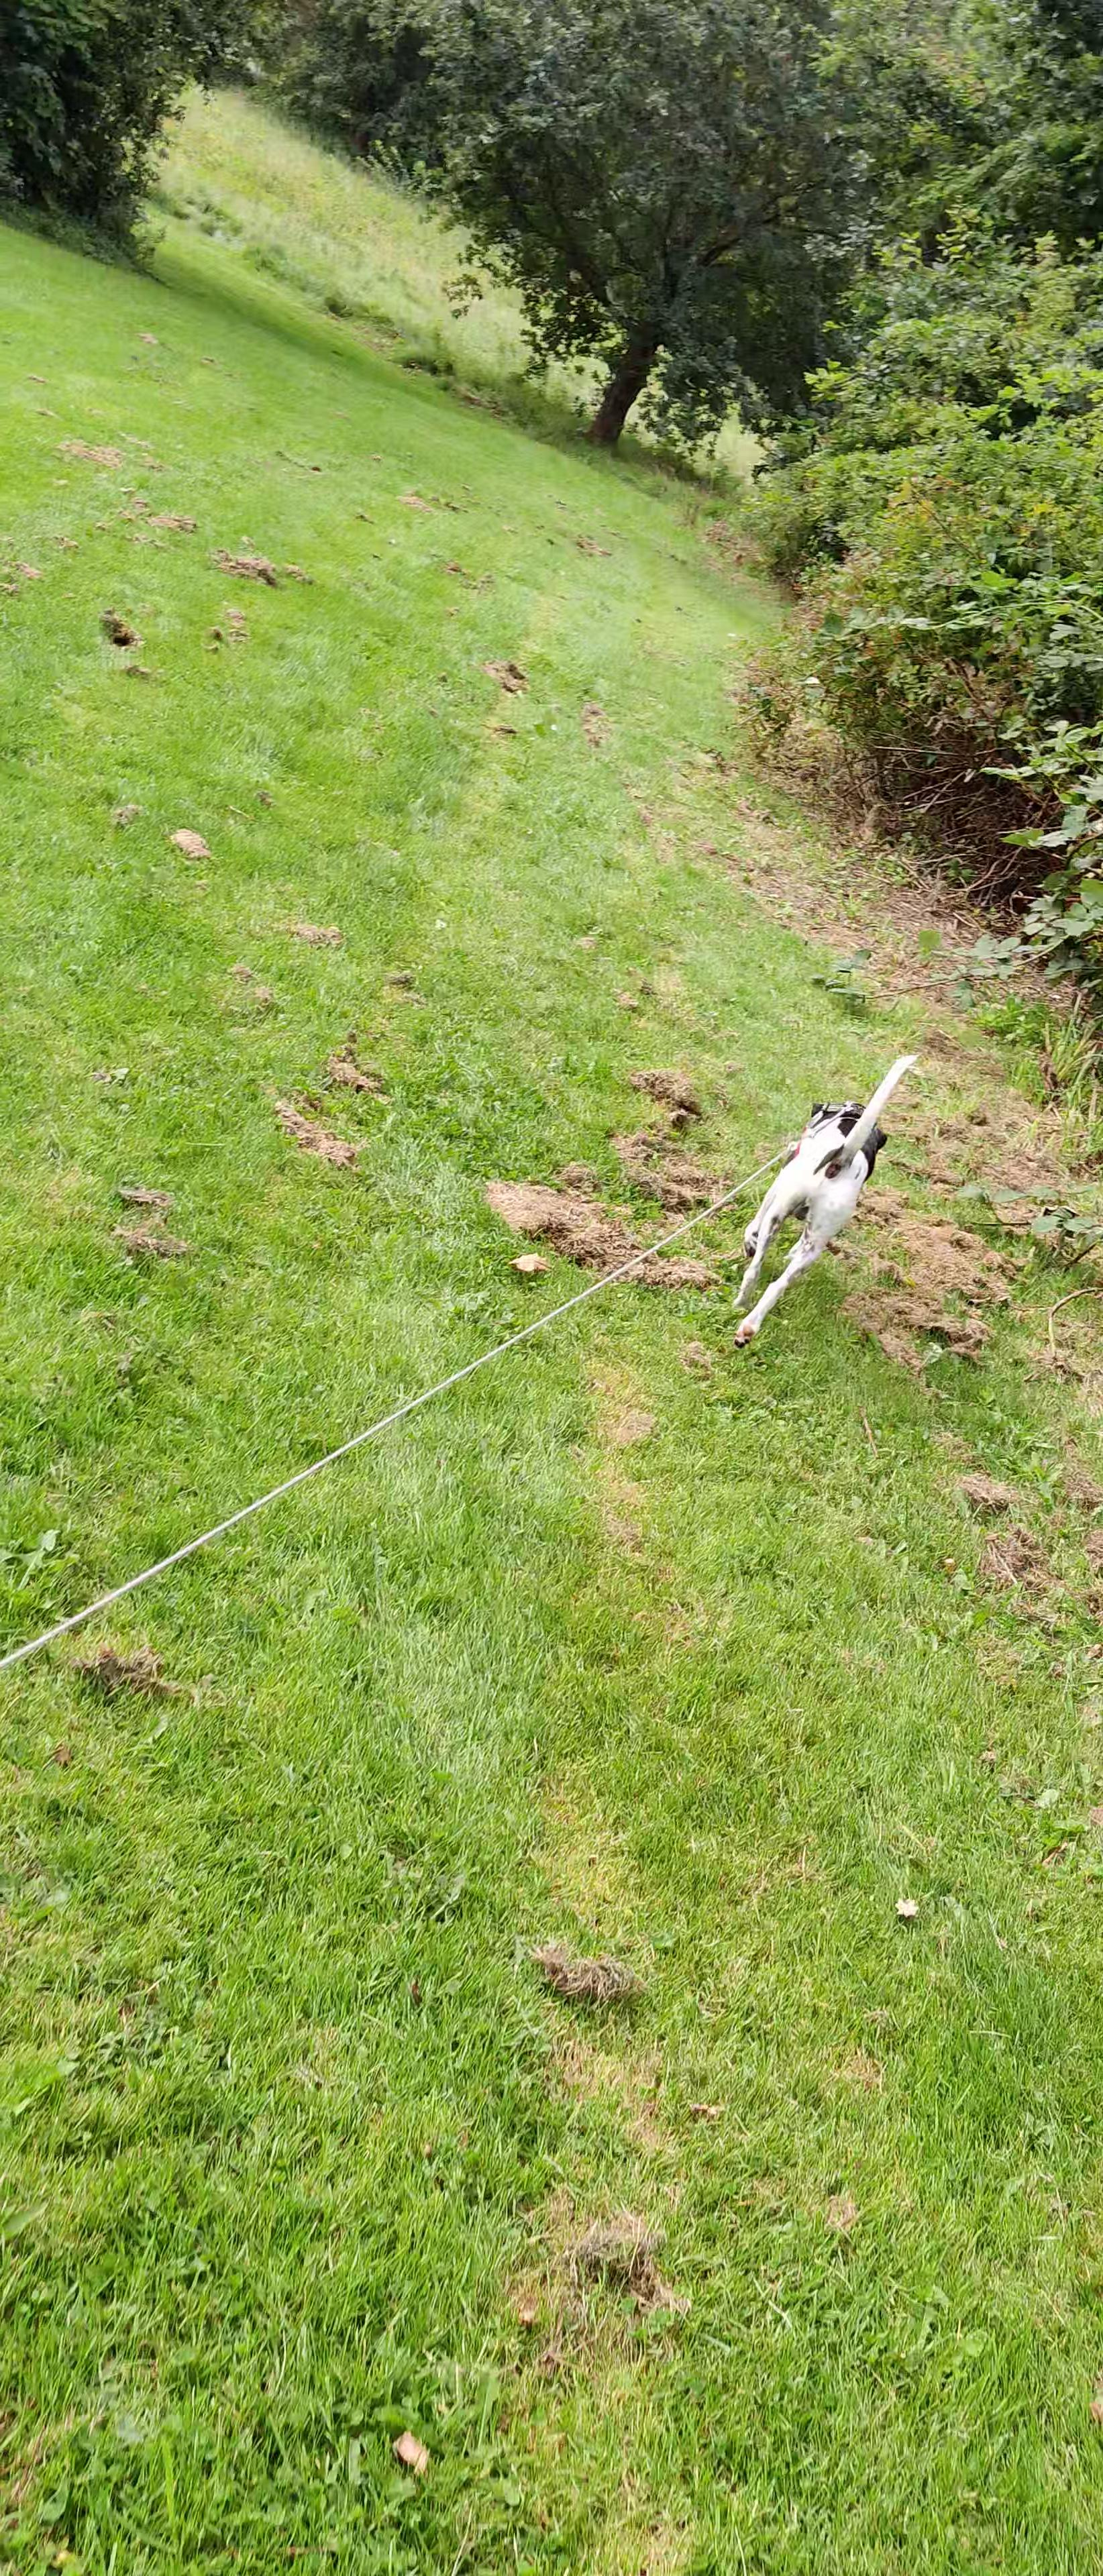Dog: (695, 1028, 945, 1372)
